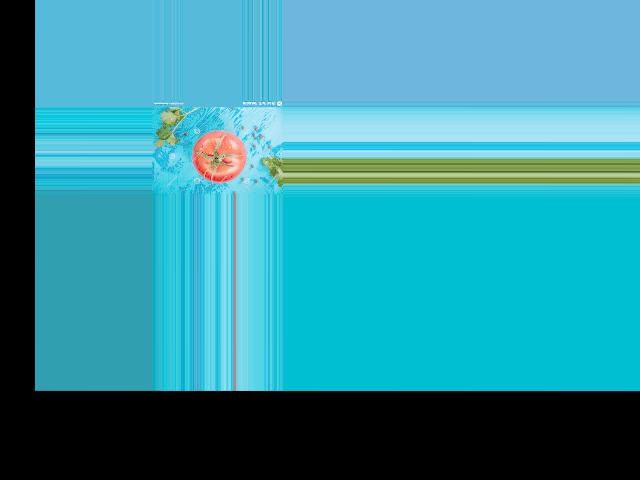tomato: (191, 130, 246, 182)
